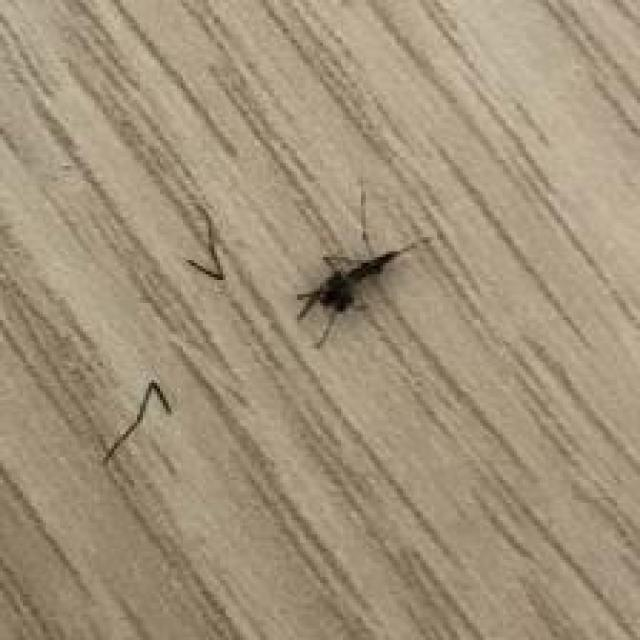Aedes albopictus: (293, 233, 430, 350)
